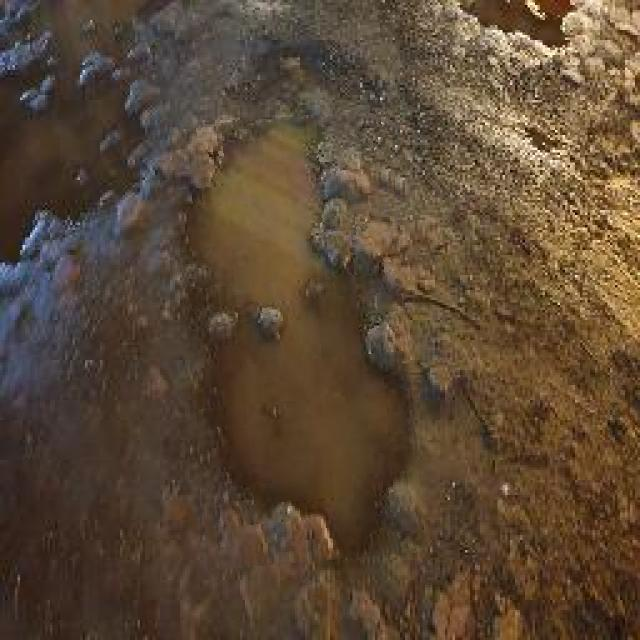puddle: (180, 114, 417, 567)
